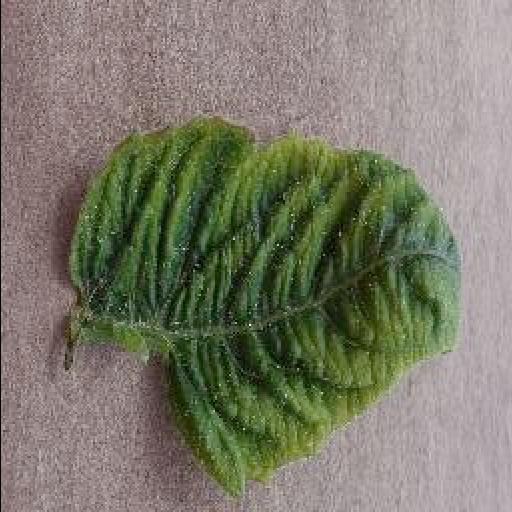disease_tomato: (62, 111, 460, 500)
